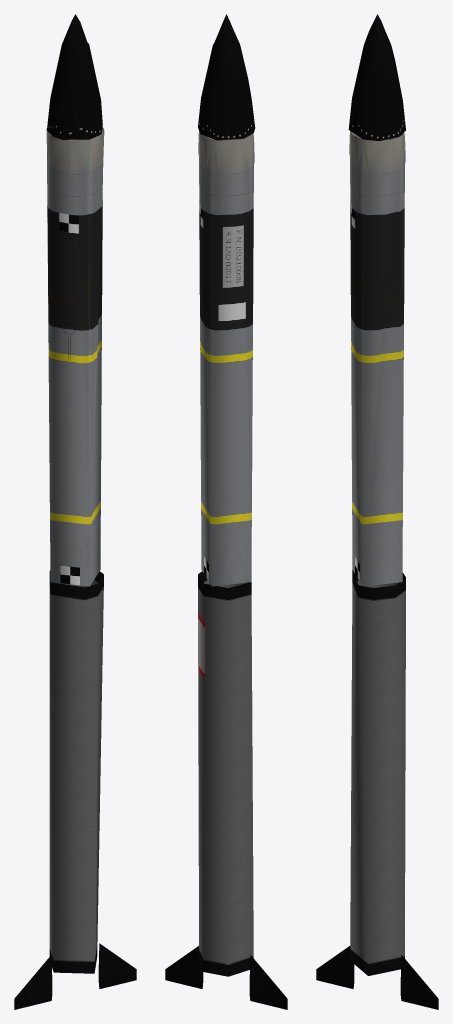
Rendered from scene_simple.glb.
3 views of the same model, side by side, from view 1: azimuth 30°, elevation 25°; view 2: azimuth 150°, elevation 25°; view 3: azimuth 330°, elevation 25° (orthographic).
Size of the model in its own units: 0.3908 by 3 by 0.1625.
Materials: 3 (3 with a texture image).
